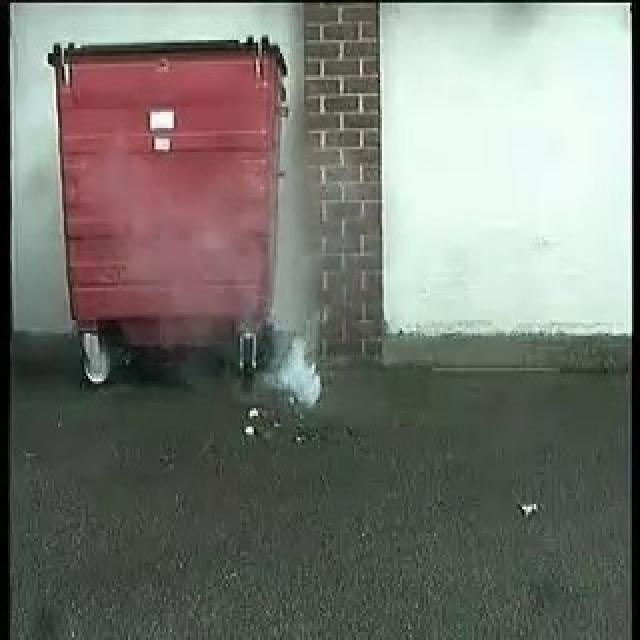smoke: (266, 250, 325, 412)
